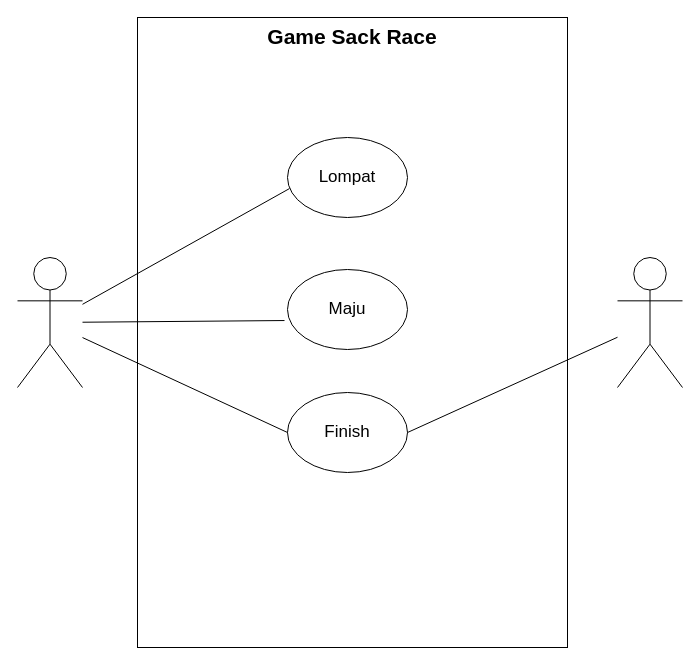
This 700x665 diagram has some shape labels left out. Each missing label, with the centre of its shape:
"juri" goes at [649,322].
"pemain" goes at [49,322].
